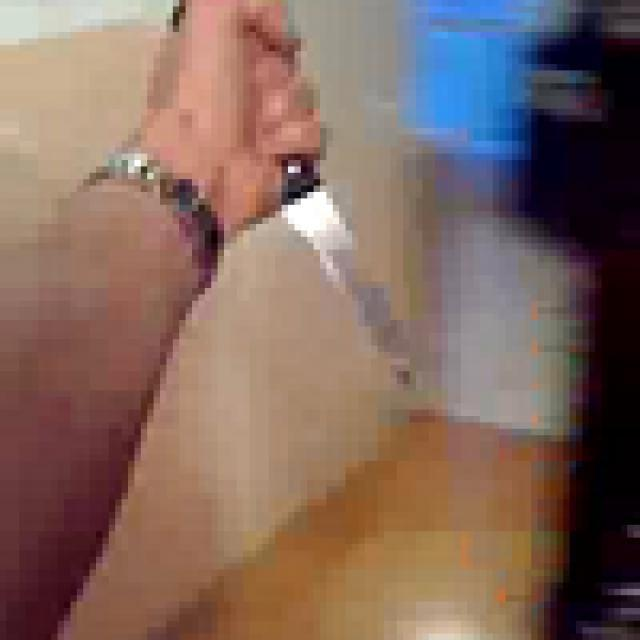Knife: (180, 0, 422, 384)
